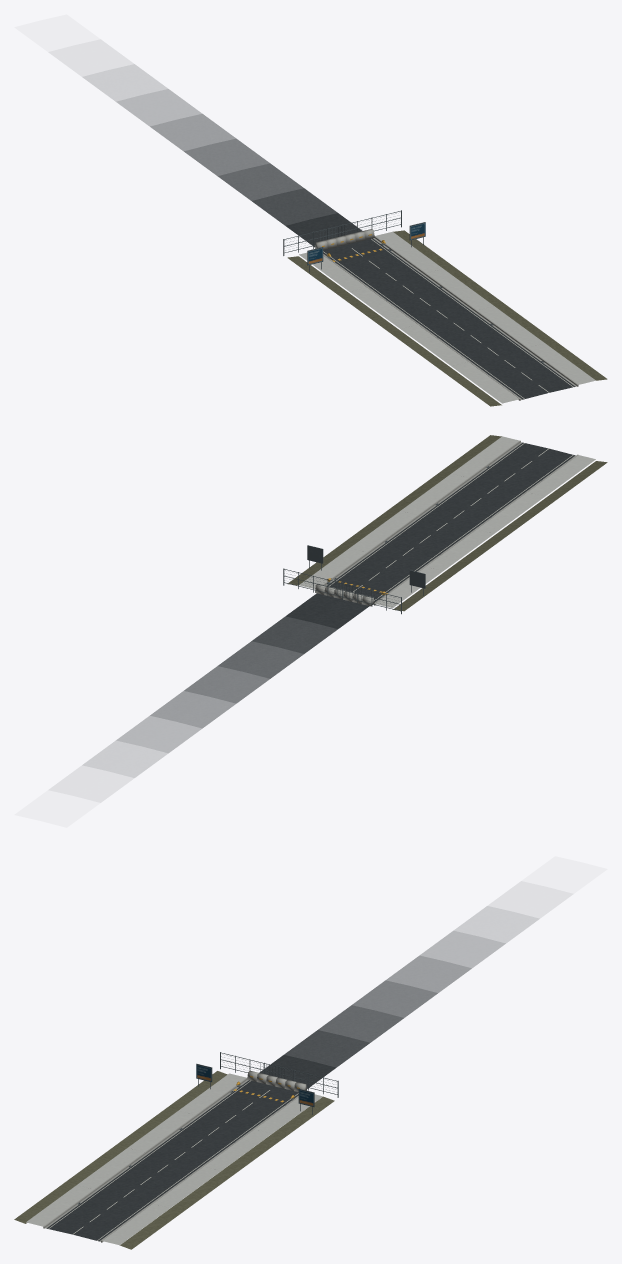
3 renders of one model, top to bottom at view 1: azimuth 30°, elevation 25°; view 2: azimuth 150°, elevation 25°; view 3: azimuth 330°, elevation 25°, orthographic.
Parts seen in each view (by area): view 1: VIS_Asphalt_Asphalt, VIS_Sidewalk_Paving, VIS_EarthShoulder_Shoulder, VIS_Horizon_Horizon_1, VIS_Horizon_Horizon_2, VIS_Horizon_Horizon_3, VIS_Horizon_Horizon_4, VIS_Horizon_Horizon_5, VIS_Horizon_Horizon_6, VIS_Horizon_Horizon_0, VIS_Curb_Concrete, VIS_Gutter_Concrete (+1 smaller); view 2: VIS_Asphalt_Asphalt, VIS_Sidewalk_Paving, VIS_EarthShoulder_Shoulder, VIS_Horizon_Horizon_1, VIS_Horizon_Horizon_2, VIS_Horizon_Horizon_3, VIS_Horizon_Horizon_4, VIS_Horizon_Horizon_5, VIS_Horizon_Horizon_6, VIS_Horizon_Horizon_0, VIS_Curb_Concrete, VIS_Gutter_Concrete (+2 smaller); view 3: VIS_Asphalt_Asphalt, VIS_Sidewalk_Paving, VIS_EarthShoulder_Shoulder, VIS_Horizon_Horizon_1, VIS_Horizon_Horizon_2, VIS_Horizon_Horizon_4, VIS_Horizon_Horizon_3, VIS_Horizon_Horizon_5, VIS_Horizon_Horizon_6, VIS_Horizon_Horizon_0, VIS_Curb_Concrete, VIS_Gutter_Concrete (+1 smaller).
Boxes of the visible parts, <box> form: VIS_Asphalt_Asphalt: <box>323,238,575,399</box>; VIS_Sidewalk_Paving: <box>299,231,595,403</box>; VIS_EarthShoulder_Shoulder: <box>287,230,607,406</box>; VIS_Horizon_Horizon_1: <box>252,188,337,225</box>; VIS_Horizon_Horizon_2: <box>218,163,303,200</box>; VIS_Horizon_Horizon_3: <box>184,138,269,175</box>; VIS_Horizon_Horizon_4: <box>150,114,235,150</box>; VIS_Horizon_Horizon_5: <box>117,89,201,125</box>; VIS_Horizon_Horizon_6: <box>83,64,167,100</box>; VIS_Horizon_Horizon_0: <box>286,213,362,247</box>; VIS_Curb_Concrete: <box>323,236,578,400</box>; VIS_Gutter_Concrete: <box>323,238,576,399</box>; VIS_Asphalt_Asphalt: <box>327,442,575,601</box>; VIS_Sidewalk_Paving: <box>299,436,595,608</box>; VIS_EarthShoulder_Shoulder: <box>287,435,607,611</box>; VIS_Horizon_Horizon_1: <box>251,616,337,653</box>; VIS_Horizon_Horizon_2: <box>218,641,303,678</box>; VIS_Horizon_Horizon_3: <box>184,666,269,703</box>; VIS_Horizon_Horizon_4: <box>150,691,235,728</box>; VIS_Horizon_Horizon_5: <box>116,716,201,752</box>; VIS_Horizon_Horizon_6: <box>83,741,167,777</box>; VIS_Horizon_Horizon_0: <box>286,593,369,628</box>; VIS_Curb_Concrete: <box>323,440,578,605</box>; VIS_Gutter_Concrete: <box>325,442,574,604</box>; VIS_Asphalt_Asphalt: <box>46,1080,298,1241</box>; VIS_Sidewalk_Paving: <box>26,1073,322,1245</box>; VIS_EarthShoulder_Shoulder: <box>14,1071,334,1249</box>; VIS_Horizon_Horizon_1: <box>284,1030,369,1067</box>; VIS_Horizon_Horizon_2: <box>318,1005,403,1042</box>; VIS_Horizon_Horizon_4: <box>386,955,471,992</box>; VIS_Horizon_Horizon_3: <box>352,980,437,1017</box>; VIS_Horizon_Horizon_5: <box>420,931,505,967</box>; VIS_Horizon_Horizon_6: <box>454,906,538,942</box>; VIS_Horizon_Horizon_0: <box>259,1055,335,1088</box>; VIS_Curb_Concrete: <box>43,1078,298,1242</box>; VIS_Gutter_Concrete: <box>45,1080,297,1241</box>.
Size of the model in its own units: 16.09 by 3.07 by 120.
17 materials, 17 textured.
